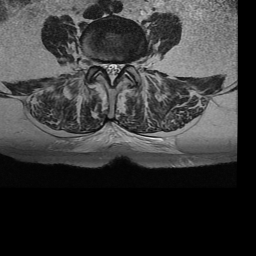CCS_normal: (109, 53, 116, 91)
LFS_severe_stenosis: (125, 53, 132, 74)
LLS_stenosis: (115, 54, 124, 79)
RFS_stenosis: (94, 51, 101, 73)
RLS_stenosis: (101, 53, 109, 78)
